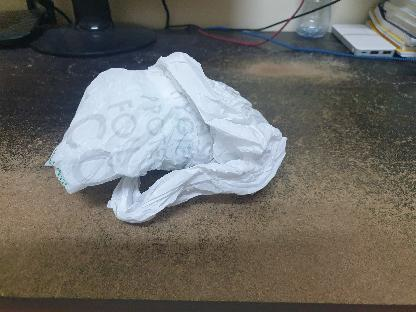Plastic Bag: (43, 52, 289, 226)
